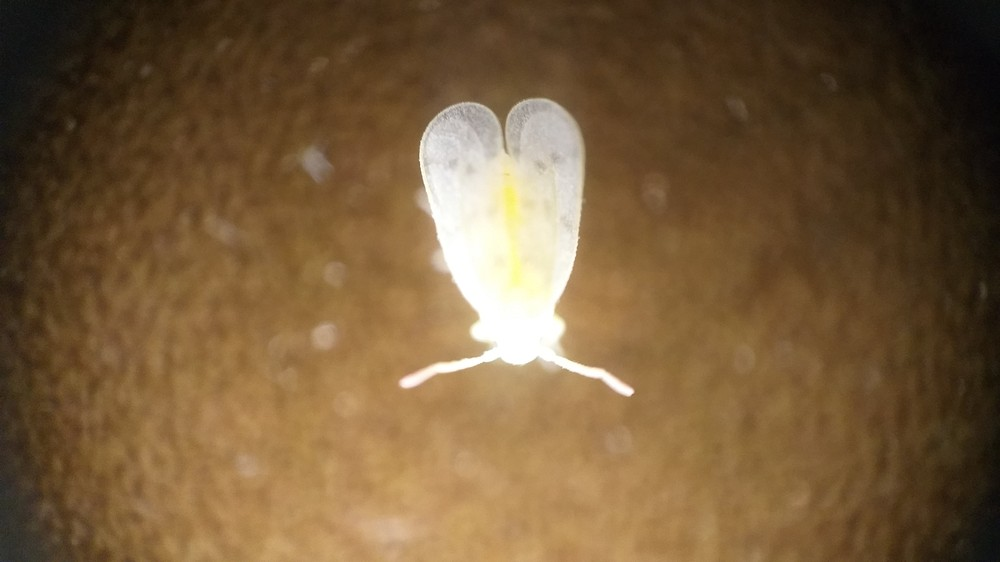Mosca Blanca: (377, 85, 667, 433)
